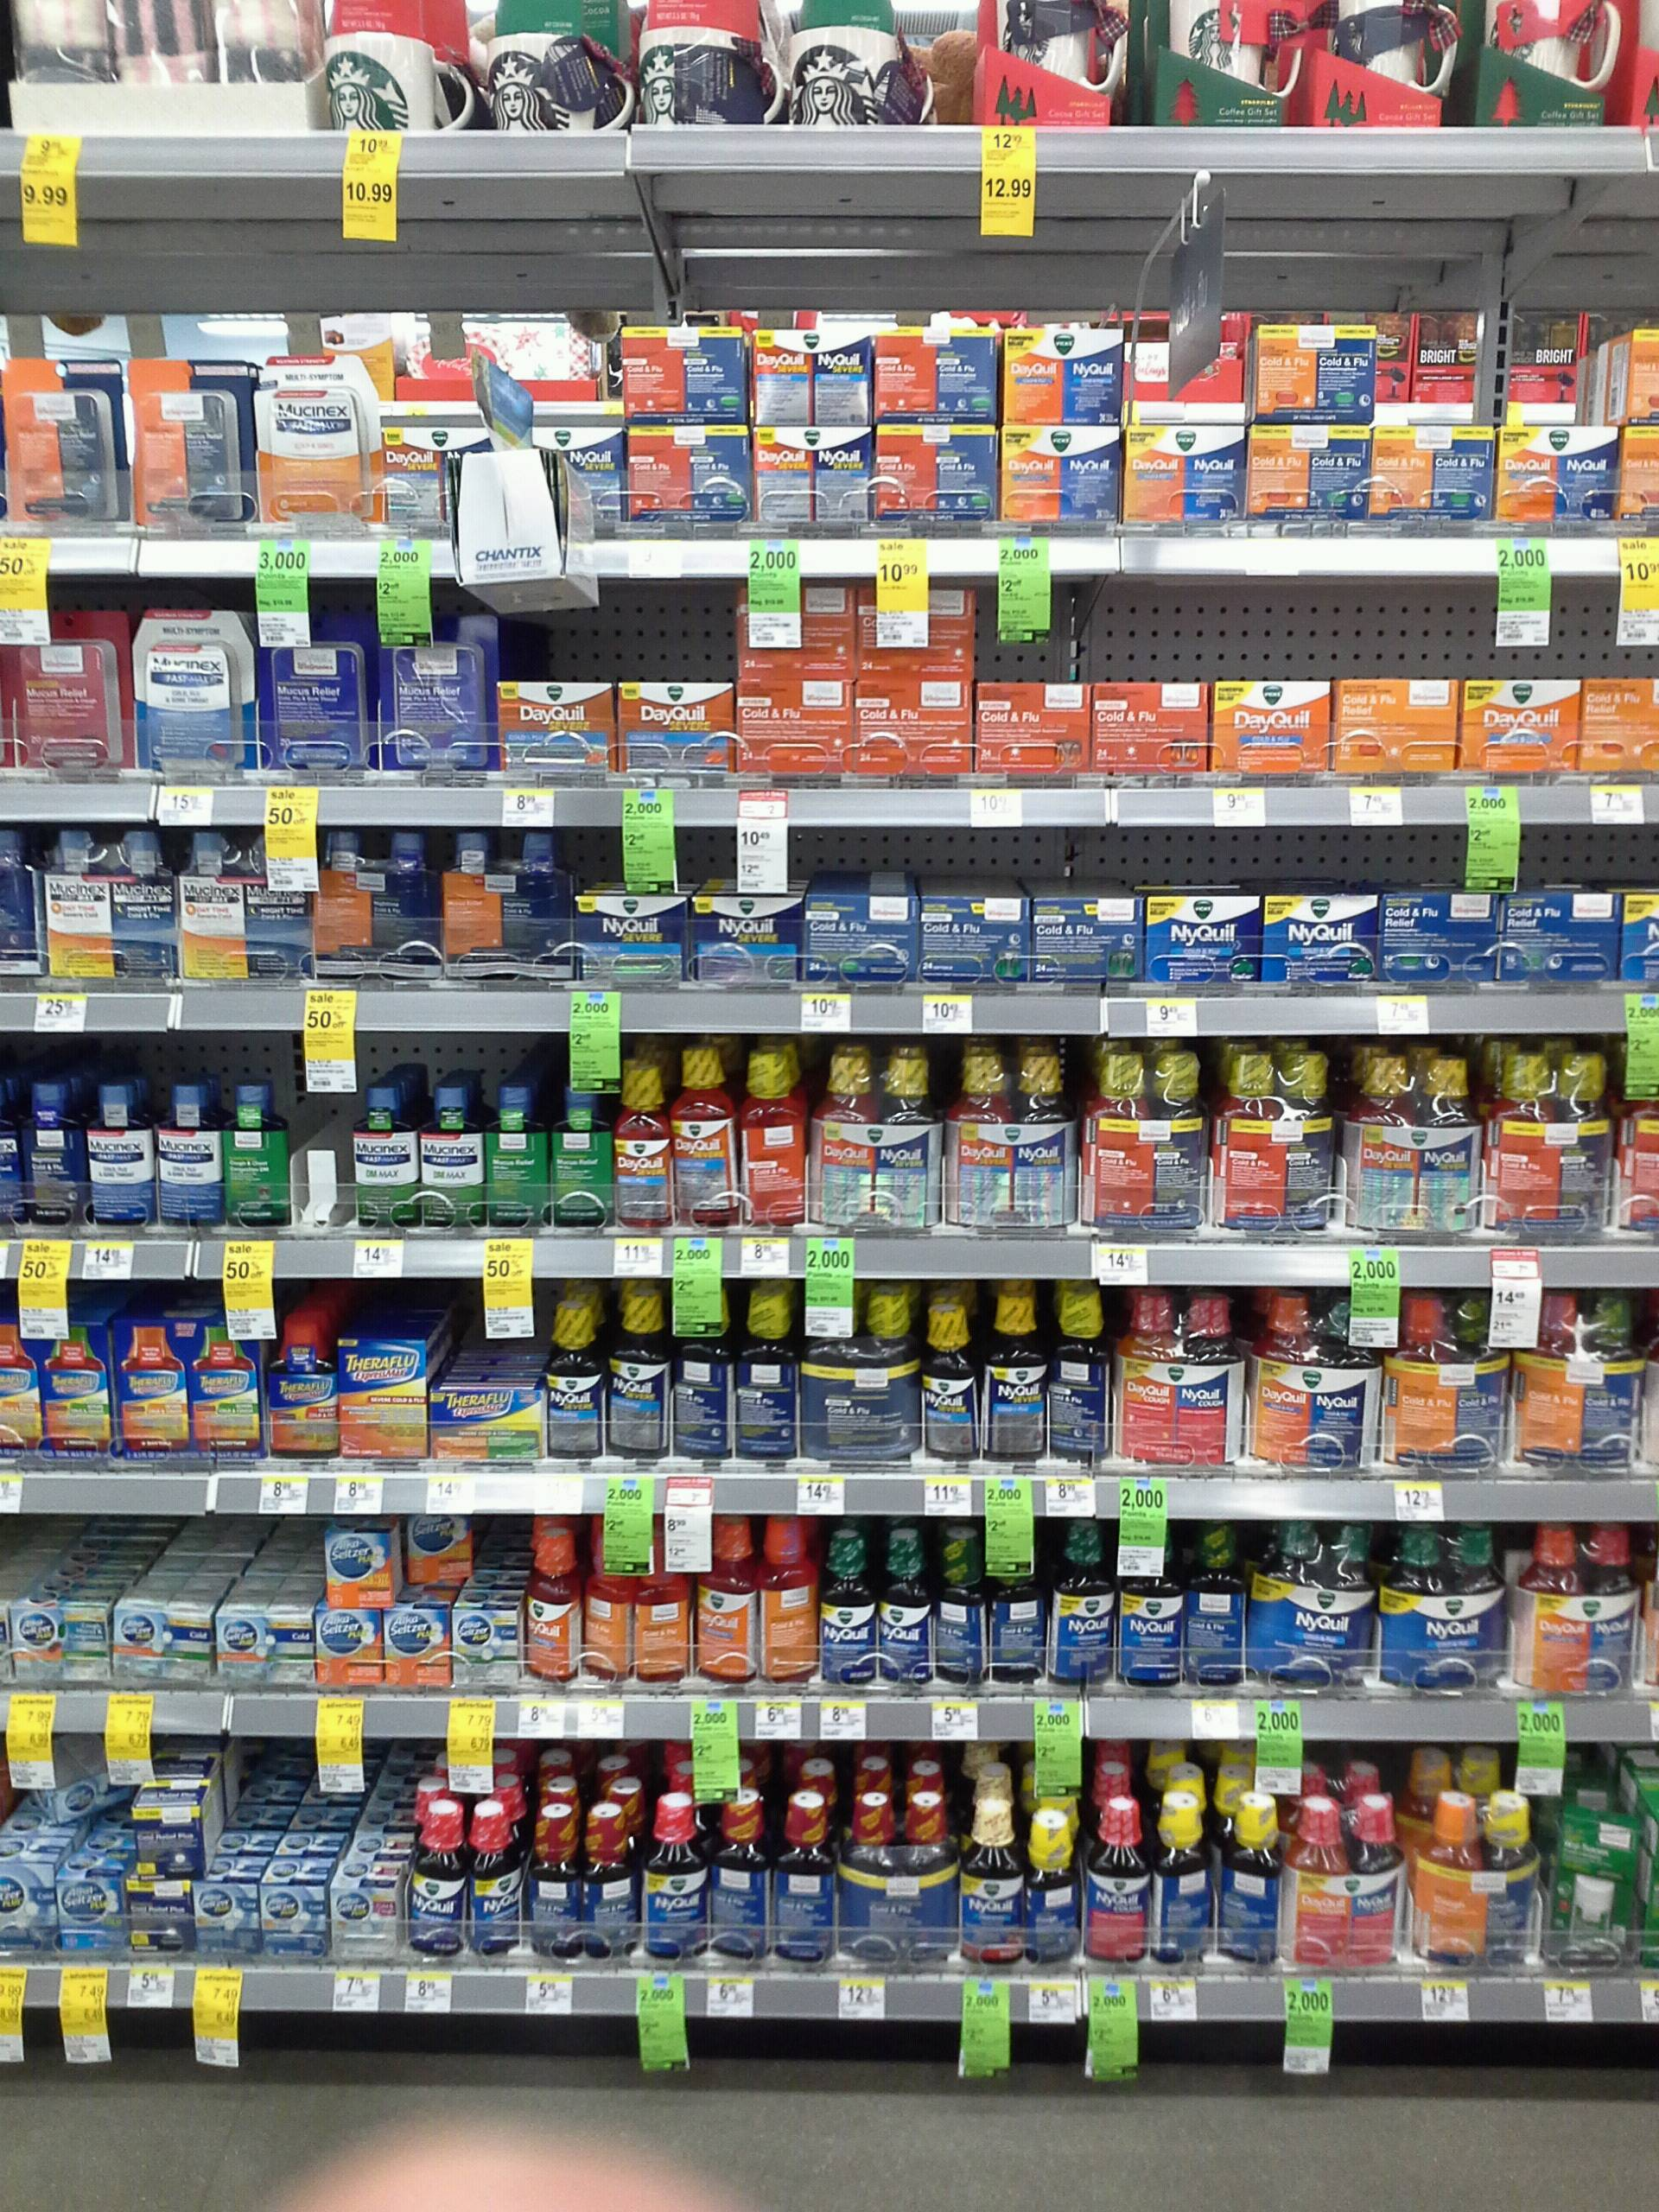product: (1513, 1517, 1647, 1693), (260, 338, 383, 528), (1413, 1791, 1540, 1973), (129, 352, 254, 533), (1284, 1791, 1406, 1973), (1246, 1519, 1380, 1683), (112, 1315, 261, 1461), (805, 1278, 918, 1463), (1384, 1521, 1507, 1689), (843, 1785, 958, 1961), (136, 610, 258, 765), (1150, 2, 1298, 127), (474, 10, 631, 129), (1312, 0, 1464, 122), (974, 2, 1126, 124), (382, 608, 497, 766), (1469, 12, 1626, 127), (321, 12, 474, 129), (634, 5, 779, 129), (5, 376, 118, 529), (1547, 1797, 1643, 1973), (270, 622, 375, 773), (16, 627, 118, 772), (782, 24, 918, 127), (1413, 1043, 1485, 1235), (941, 1038, 1011, 1233), (626, 421, 748, 531), (1145, 1036, 1215, 1228), (1011, 1036, 1077, 1233), (1499, 885, 1628, 986), (1584, 1287, 1652, 1479), (1384, 1291, 1455, 1472), (746, 324, 873, 425), (1002, 425, 1121, 533), (882, 423, 1000, 531), (1345, 1045, 1413, 1233), (742, 1042, 812, 1224), (619, 320, 748, 418), (1513, 1289, 1581, 1474), (878, 319, 1000, 421), (755, 428, 880, 528), (1312, 1287, 1380, 1470), (1373, 421, 1500, 519), (1127, 421, 1246, 526), (734, 674, 856, 775), (1211, 672, 1335, 772), (1079, 1036, 1141, 1231), (1251, 421, 1368, 526), (1500, 418, 1619, 521), (878, 1040, 941, 1233), (1377, 887, 1499, 986), (1053, 1285, 1117, 1472), (737, 1278, 803, 1460), (1554, 1045, 1617, 1235), (1255, 320, 1377, 418), (1342, 676, 1466, 772), (1490, 1047, 1553, 1235), (495, 674, 613, 773), (347, 1076, 423, 1230), (774, 1785, 836, 1970), (676, 1042, 737, 1230), (1246, 1284, 1309, 1467), (1178, 1287, 1241, 1470), (1082, 1792, 1148, 1965), (694, 1512, 760, 1684), (1002, 327, 1122, 421), (1267, 885, 1377, 988), (1216, 1040, 1276, 1230), (617, 678, 730, 777), (340, 1331, 427, 1460), (1051, 1517, 1115, 1689), (1094, 676, 1206, 775), (859, 674, 971, 773), (692, 885, 803, 984), (572, 888, 685, 986), (610, 1284, 674, 1454), (1218, 1791, 1279, 1970), (674, 1278, 735, 1458), (974, 678, 1093, 770), (807, 885, 915, 986), (859, 578, 979, 669), (711, 1787, 772, 1965), (985, 1285, 1046, 1463), (1150, 1791, 1213, 1963), (960, 1792, 1025, 1959), (612, 1054, 673, 1230), (1469, 674, 1577, 773), (814, 1038, 871, 1224), (1279, 1036, 1335, 1228), (1150, 888, 1262, 984), (920, 888, 1032, 984), (1119, 1280, 1176, 1465), (108, 822, 174, 982), (1119, 1517, 1182, 1686), (223, 1073, 291, 1228), (437, 826, 504, 984), (739, 578, 856, 667), (87, 1069, 152, 1230), (1035, 890, 1145, 984), (178, 826, 244, 981), (1185, 1517, 1246, 1684), (551, 1069, 612, 1235), (40, 1312, 108, 1460), (545, 1298, 608, 1458), (246, 820, 308, 981), (504, 822, 566, 982), (265, 1315, 335, 1458), (634, 1517, 694, 1684), (762, 1512, 819, 1681), (647, 1789, 708, 1947), (21, 1073, 82, 1231), (40, 826, 105, 975), (310, 826, 373, 979), (580, 1801, 640, 1963), (159, 1076, 221, 1228), (1455, 1291, 1509, 1467), (525, 1527, 586, 1681), (376, 822, 436, 979), (488, 1078, 549, 1230), (925, 1294, 979, 1465), (990, 1526, 1047, 1686), (26, 1735, 127, 1825), (823, 1524, 878, 1688), (7, 1599, 110, 1686), (427, 1080, 486, 1224), (936, 1522, 988, 1686), (113, 1599, 211, 1686), (429, 1386, 544, 1460), (411, 1801, 465, 1956), (884, 1524, 934, 1689), (525, 1801, 577, 1958), (587, 1514, 634, 1684), (469, 1803, 521, 1956), (214, 1604, 308, 1688), (383, 418, 448, 540), (1584, 674, 1659, 772), (1032, 1806, 1079, 1961), (322, 1527, 399, 1606), (124, 1874, 197, 1956), (331, 1881, 403, 1965), (453, 1604, 521, 1689), (0, 1857, 52, 1963), (312, 1608, 380, 1686), (56, 1869, 120, 1951), (129, 1796, 200, 1869), (0, 1322, 37, 1465), (263, 1879, 326, 1961), (387, 1608, 448, 1691), (202, 1881, 258, 1959), (406, 1515, 469, 1583), (1614, 326, 1659, 416), (1626, 418, 1659, 521)
